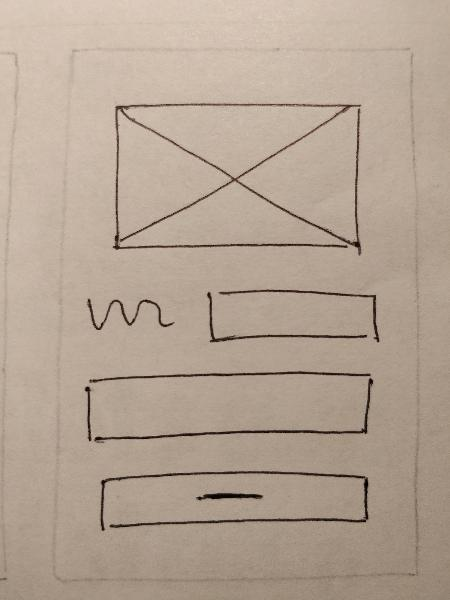button: (84, 465, 376, 536)
image: (99, 91, 372, 264)
text: (78, 284, 179, 336)
text_input: (74, 367, 380, 446), (198, 279, 392, 355)
